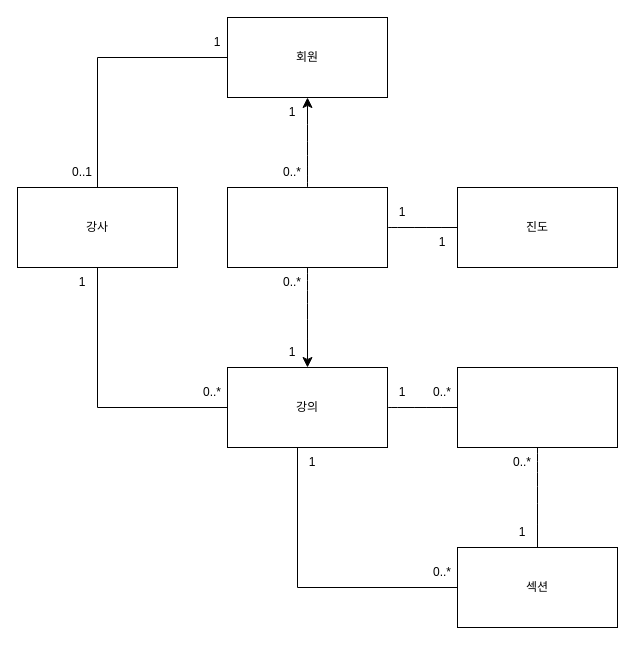
Some shapes in this 635 by 645 pixel diagram are drawn without their labels. The centre of each missing label's shape, as x and y in pixels:
"수강" goes at (307,227).
"수업" goes at (537,407).
